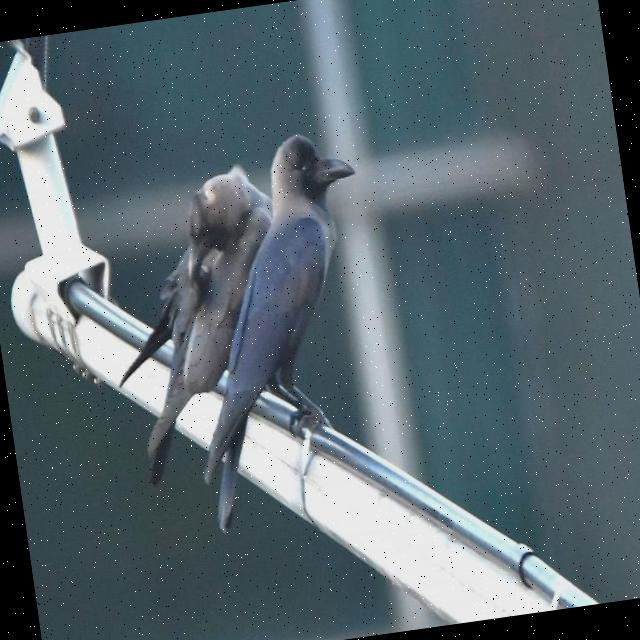crow: (154, 123, 408, 542)
